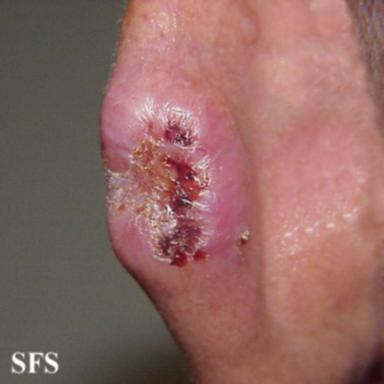basal-cell-carcinoma: (99, 93, 251, 271)
